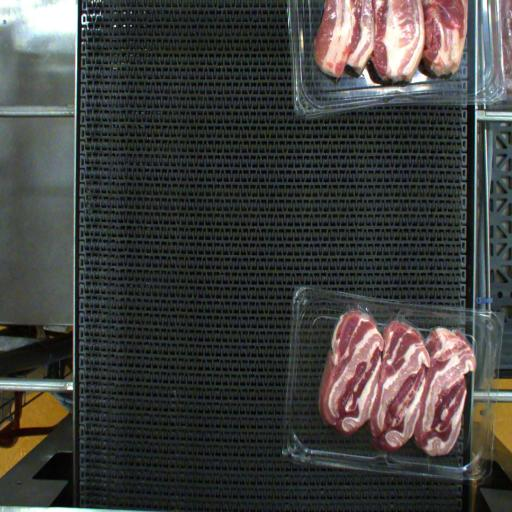unsealed: (346, 286, 413, 334)
